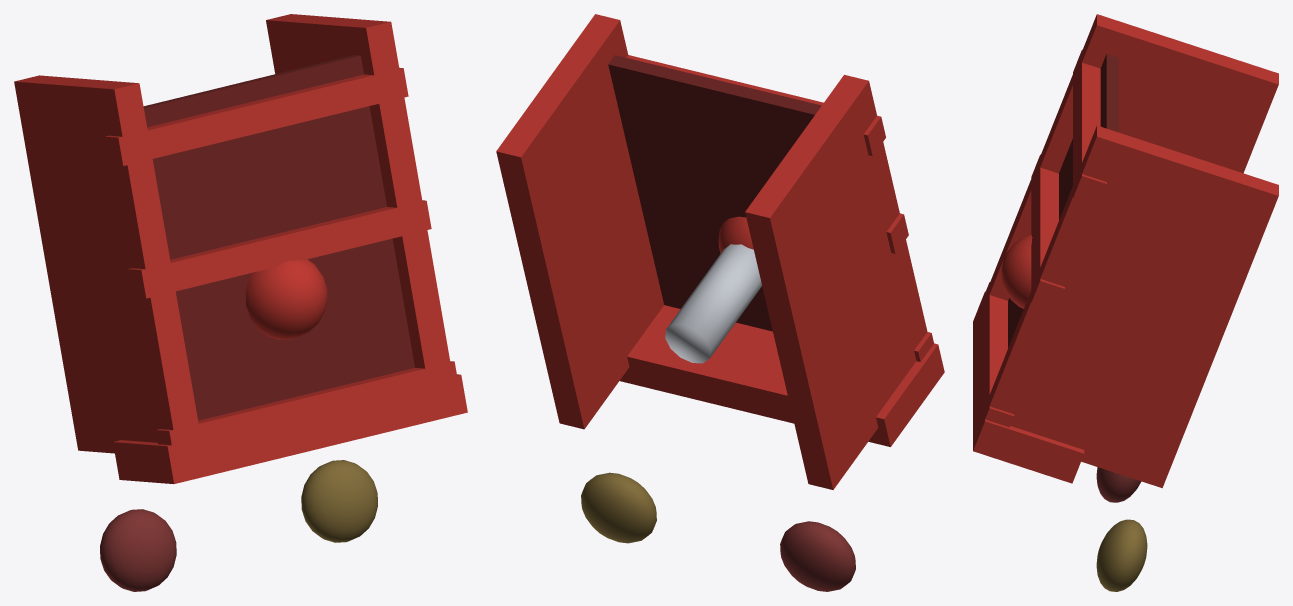
File: arm.glb
The picture shows the model from 3 angles, left to right: view 1: azimuth 30°, elevation 25°; view 2: azimuth 150°, elevation 25°; view 3: azimuth 270°, elevation 25°; orthographic projection. The views are drawn at different scales.
Visible parts, largest first — view 1: pkt_cage_glass, pkt_cage_side_0, pkt_cage_side_1, pkt_cage_lip, pkt_cage_bar_2, pkt_cage_bar_1, pkt_cage_bar_0, pkt_arm_toggle_tip, pkt_arm_lamp_1, pkt_arm_lamp_0; view 2: pkt_cage_side_0, pkt_cage_side_1, pkt_cage_glass, pkt_cage_lip, pkt_arm_toggle_stem, pkt_arm_lamp_1, pkt_arm_lamp_0, pkt_cage_bar_2, pkt_arm_toggle_tip; view 3: pkt_cage_side_1, pkt_cage_side_0, pkt_cage_lip, pkt_cage_bar_1, pkt_cage_bar_2, pkt_arm_lamp_1, pkt_cage_bar_0, pkt_cage_glass, pkt_arm_toggle_tip, pkt_arm_lamp_0.
Part boxes in pixels (x1,y1,x2,y2): pkt_cage_glass: [143, 55, 414, 420]; pkt_cage_side_0: [14, 75, 203, 458]; pkt_cage_side_1: [266, 14, 455, 396]; pkt_cage_lip: [113, 374, 467, 483]; pkt_cage_bar_2: [105, 67, 408, 165]; pkt_cage_bar_1: [127, 200, 431, 298]; pkt_cage_bar_0: [155, 361, 459, 459]; pkt_arm_toggle_tip: [245, 259, 327, 339]; pkt_arm_lamp_1: [301, 460, 377, 542]; pkt_arm_lamp_0: [100, 509, 176, 591]; pkt_cage_side_0: [745, 74, 927, 489]; pkt_cage_side_1: [496, 14, 663, 429]; pkt_cage_glass: [608, 55, 821, 331]; pkt_cage_lip: [619, 305, 944, 446]; pkt_arm_toggle_stem: [665, 244, 761, 363]; pkt_arm_lamp_1: [581, 472, 656, 543]; pkt_arm_lamp_0: [780, 521, 855, 591]; pkt_cage_bar_2: [626, 55, 885, 156]; pkt_arm_toggle_tip: [718, 216, 753, 253]; pkt_cage_side_1: [980, 125, 1278, 488]; pkt_cage_side_0: [980, 14, 1278, 316]; pkt_cage_lip: [973, 291, 1084, 483]; pkt_cage_bar_1: [1031, 154, 1064, 311]; pkt_cage_bar_2: [1073, 49, 1106, 206]; pkt_arm_lamp_1: [1096, 519, 1147, 591]; pkt_cage_bar_0: [980, 282, 1014, 429]; pkt_cage_glass: [1008, 54, 1118, 347]; pkt_arm_toggle_tip: [1001, 234, 1032, 308]; pkt_arm_lamp_0: [1096, 467, 1141, 502].
Bounding box in the file's own units: 0.0805 × 0.1354 × 0.08.
